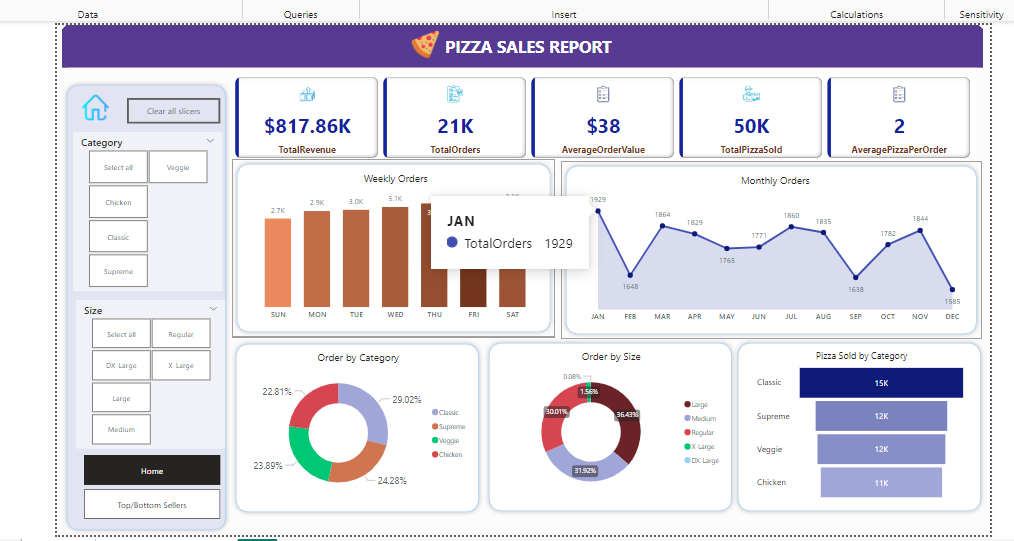

What the dashboard file says about the page in this screenshot:
{"tool":"powerbi","page":{"name":"Home","canvas":[1500,820],"ordinal":0},"visuals":[{"type":"shape","box":[8.8,0,1481.2,68.8],"z":0,"group":"g1"},{"type":"cardVisual","title":"KPI Card (new)","fields":{"Data":["PizzaMeasures.TotalRevenue","PizzaMeasures.TotalOrders","PizzaMeasures.AverageOrderValue","PizzaMeasures.TotalPizzaSold","PizzaMeasures.AveragePizzaPerOrder"]},"box":[281.2,78.8,1196.2,140],"z":0},{"type":"shape","box":[281.2,216.2,520,286.2],"z":0,"group":"g2"},{"type":"shape","box":[810.5,219,676.2,286.2],"z":0,"group":"g3"},{"type":"shape","box":[1087.5,502.5,406.2,286.2],"z":0,"group":"g4"},{"type":"shape","box":[686.2,503.8,406.2,286.2],"z":0,"group":"g6"},{"type":"shape","box":[280.3,505,406.2,286.2],"z":0,"group":"g5"},{"type":"image","box":[554.1,3.8,78.8,56.2],"z":1000,"group":"g1"},{"type":"shape","box":[8.8,88.8,271.2,731.2],"z":1000},{"type":"columnChart","title":"Weekly Orders","fields":{"Category":["pizza_sales.Order Day"],"Y":["PizzaMeasures.TotalOrders"]},"box":[303.7,235,481.2,248.8],"z":1000,"group":"g2"},{"type":"areaChart","title":"Monthly Orders","fields":{"Category":["pizza_sales.ShortMonthNane"],"Y":["PizzaMeasures.TotalOrders"]},"box":[844.9,237.8,621.2,248.8],"z":1000,"group":"g3"},{"type":"donutChart","title":"Order by Size","fields":{"Y":["PizzaMeasures.TotalOrders"],"Category":["pizza_sales.pizza_size"]},"box":[703.3,521.3,373.8,248.8],"z":1000,"group":"g6"},{"type":"donutChart","title":"Order by Category","fields":{"Y":["PizzaMeasures.TotalOrders"],"Category":["pizza_sales.pizza_category"]},"box":[297.4,522.5,373.8,248.8],"z":1000,"group":"g5"},{"type":"group","id":"g1","title":"PIZZA SALES REPORT","box":[8.8,0,1481.2,158.8],"z":2000},{"type":"textbox","box":[597.6,11.2,322.5,46.2],"z":2000,"group":"g1"},{"type":"group","id":"g2","title":"Orders by Week","box":[281.2,216.2,520,286.2],"z":3000},{"type":"group","id":"g3","title":"Orders by Month","box":[810.5,219,676.2,286.2],"z":4000},{"type":"group","id":"g4","title":"Orders by Week","box":[1087.5,502.5,406.2,286.2],"z":5000},{"type":"group","id":"g5","title":"Orders by Week","box":[280.3,505,406.2,286.2],"z":6000},{"type":"group","id":"g6","title":"Orders by Week","box":[686.2,503.8,406.2,286.2],"z":7000},{"type":"funnel","title":"Pizza Sold by Category","fields":{"Category":["pizza_sales.pizza_category"],"Y":["PizzaMeasures.TotalPizzaSold"]},"box":[1120,521.2,346.2,248.8],"z":8000},{"type":"image","box":[30,106.2,62.5,52.5],"z":9000},{"type":"slicer","fields":{"Values":["pizza_sales.pizza_category"]},"box":[25,172.5,240,256.2],"z":9001},{"type":"slicer","fields":{"Values":["pizza_sales.pizza_size"]},"box":[30,442.5,240,238.8],"z":9002},{"type":"actionButton","box":[112.9,117.5,150,41.2],"z":9003,"group":"g1"}]}

Visuals, with their boxes on the page's 1500x820 design canvas (x1, y1, x2, y2). These are canvas units, not pixel positions in the 1014x541 screenshot, which may show the page scaled, cropped or inside an application window:
shape: pyautogui.locateOnScreen(9, 0, 1490, 69)
"KPI Card (new)" cardVisual: pyautogui.locateOnScreen(281, 79, 1477, 219)
shape: pyautogui.locateOnScreen(281, 216, 801, 502)
shape: pyautogui.locateOnScreen(810, 219, 1487, 505)
shape: pyautogui.locateOnScreen(1088, 502, 1494, 789)
shape: pyautogui.locateOnScreen(686, 504, 1092, 790)
shape: pyautogui.locateOnScreen(280, 505, 686, 791)
image: pyautogui.locateOnScreen(554, 4, 633, 60)
shape: pyautogui.locateOnScreen(9, 89, 280, 820)
"Weekly Orders" columnChart: pyautogui.locateOnScreen(304, 235, 785, 484)
"Monthly Orders" areaChart: pyautogui.locateOnScreen(845, 238, 1466, 487)
"Order by Size" donutChart: pyautogui.locateOnScreen(703, 521, 1077, 770)
"Order by Category" donutChart: pyautogui.locateOnScreen(297, 522, 671, 771)
"PIZZA SALES REPORT" group: pyautogui.locateOnScreen(9, 0, 1490, 159)
textbox: pyautogui.locateOnScreen(598, 11, 920, 57)
"Orders by Week" group: pyautogui.locateOnScreen(281, 216, 801, 502)
"Orders by Month" group: pyautogui.locateOnScreen(810, 219, 1487, 505)
"Orders by Week" group: pyautogui.locateOnScreen(1088, 502, 1494, 789)
"Orders by Week" group: pyautogui.locateOnScreen(280, 505, 686, 791)
"Orders by Week" group: pyautogui.locateOnScreen(686, 504, 1092, 790)
"Pizza Sold by Category" funnel: pyautogui.locateOnScreen(1120, 521, 1466, 770)
image: pyautogui.locateOnScreen(30, 106, 92, 159)
slicer - pizza_sales.pizza_category: pyautogui.locateOnScreen(25, 172, 265, 429)
slicer - pizza_sales.pizza_size: pyautogui.locateOnScreen(30, 442, 270, 681)
actionButton: pyautogui.locateOnScreen(113, 118, 263, 159)
